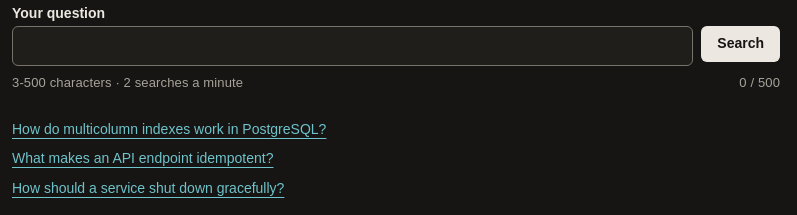
Scenario: the form › a role=search form, the hint per mode, and example questions that fill the field without sending
Check: the form is shown, box left=12, top=0, right=780, bottom=92
Check: the text "3-500 characters · 2 searches a minute" is shown, box left=12, top=74, right=243, bottom=92
Click the button "What makes an API endpoint idempotent?".
click(143, 159)  # box left=12, top=148, right=274, bottom=169
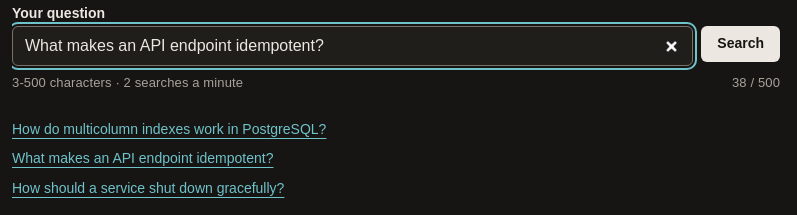
Check: the search field labelled "Your question" holds "What makes an API endpoint idempotent?", box left=12, top=26, right=693, bottom=66
